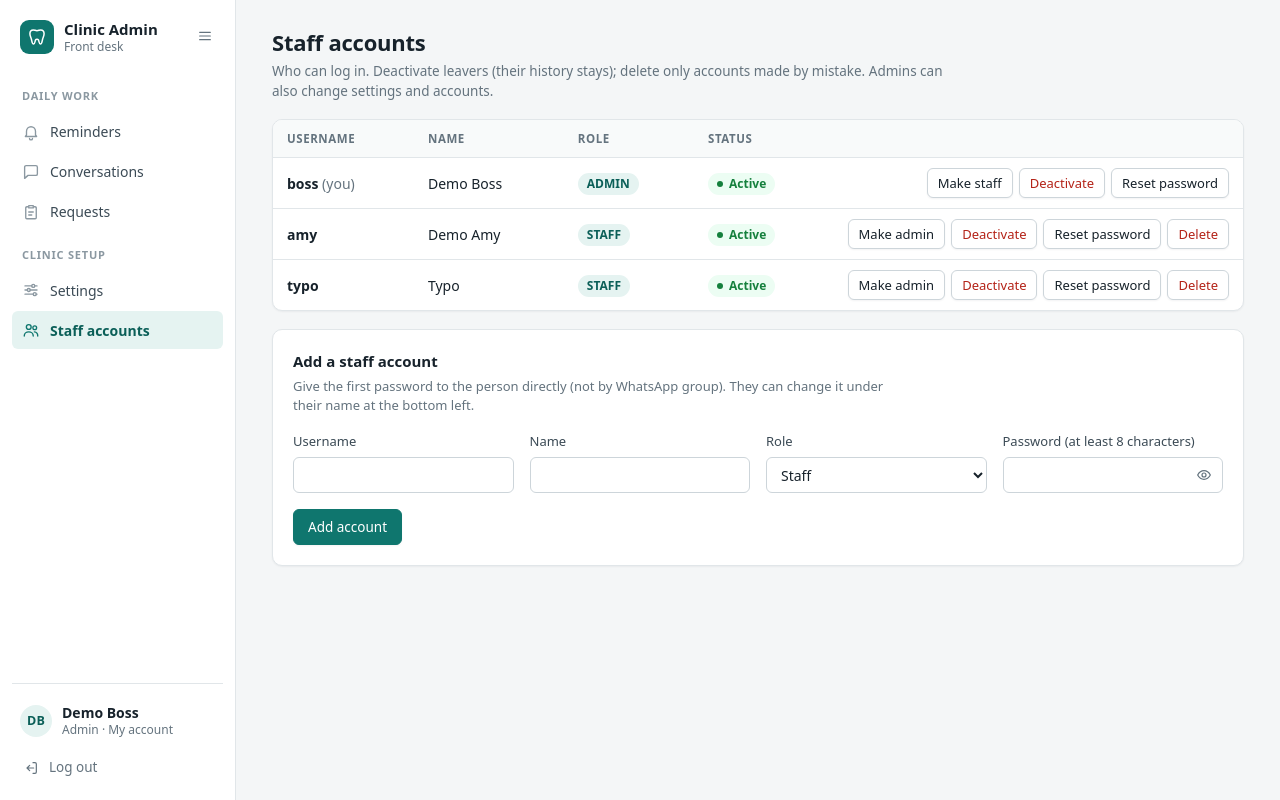
Test: staff accounts › deletes an unused account and explains why a used one cannot be deleted
Click the 2nd button "Delete". click: [1198, 285]
box: [1168,270,1229,300]
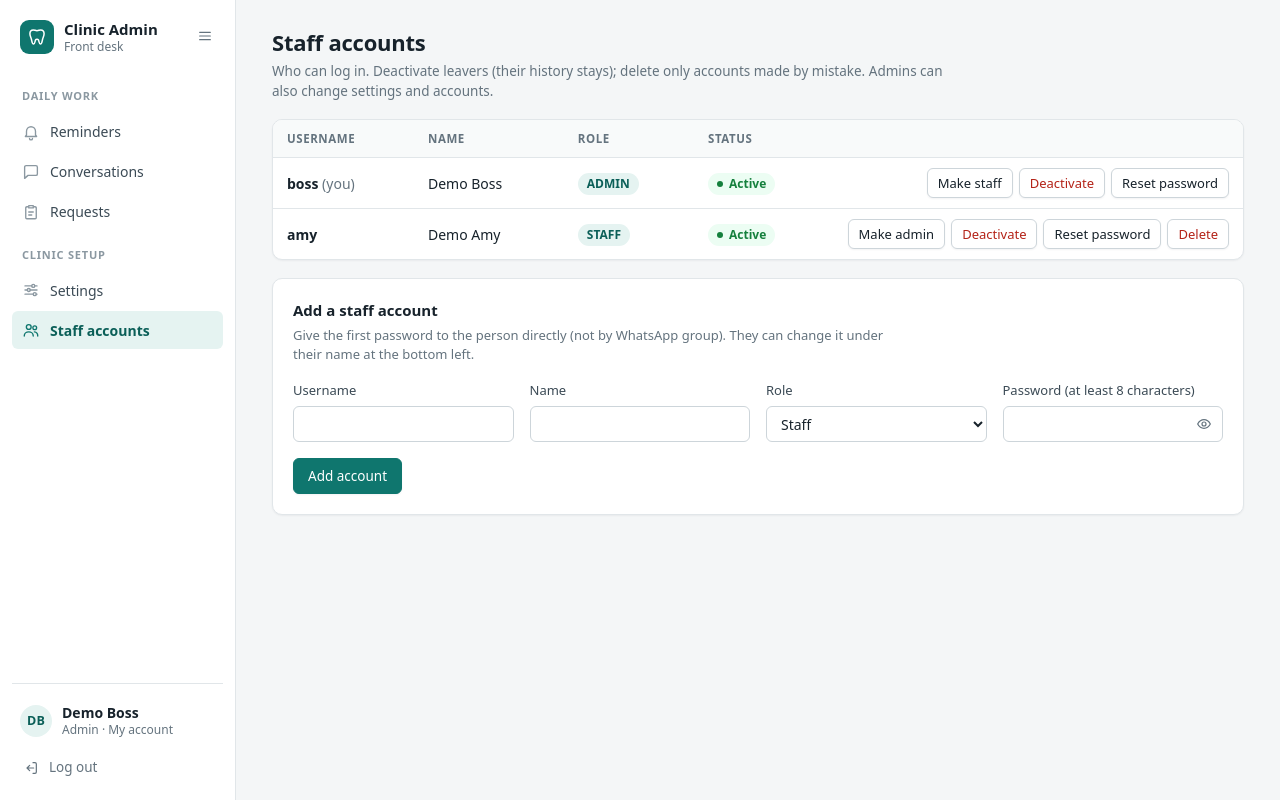
Check: the text "typo" is gone
Click the button "Delete". click: [1198, 234]
box: [1168,219,1229,249]
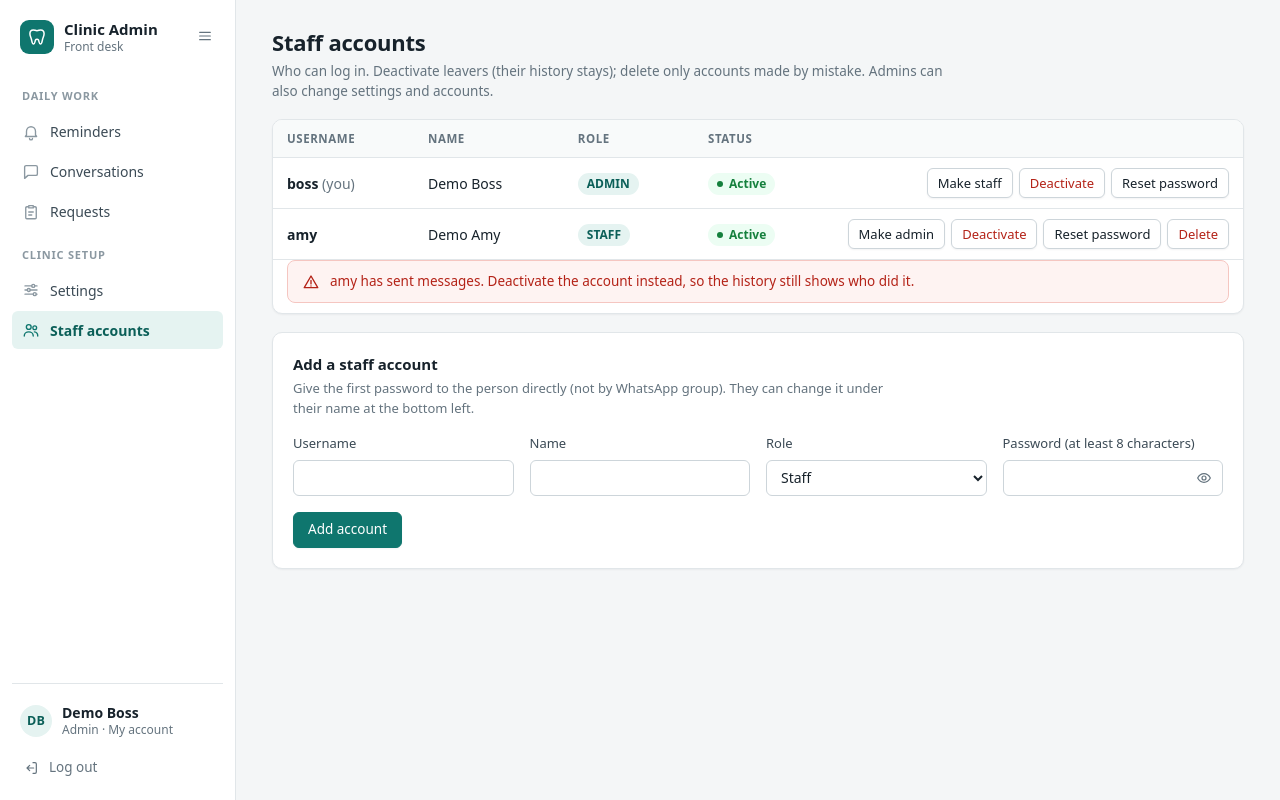
Check: the message shows "Deactivate the account instead", box [330,272,914,290]
